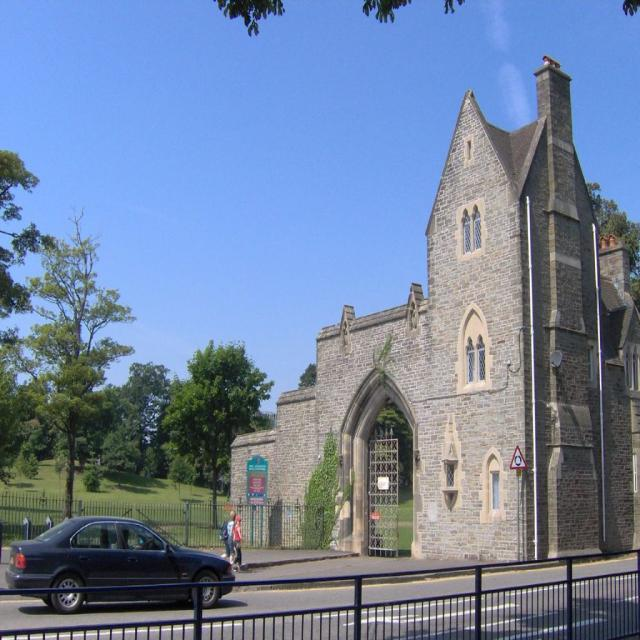car: (2, 507, 240, 619)
